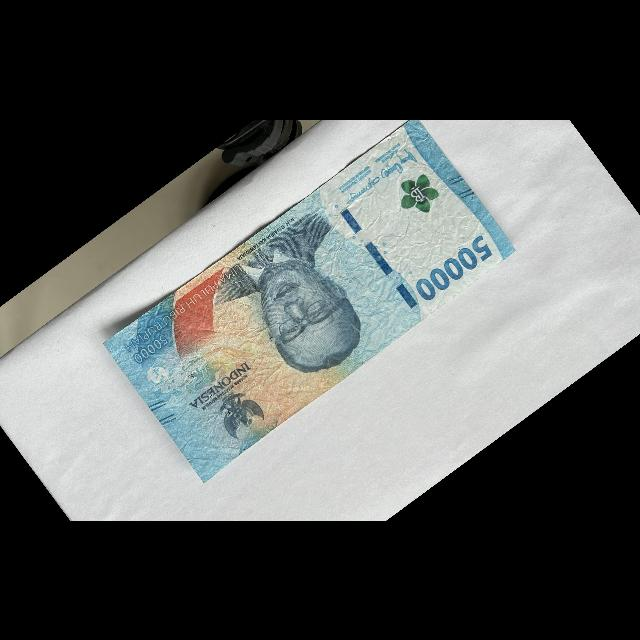Palsu-50k: (98, 109, 521, 486)
Tinta-Palsu-50k: (389, 166, 446, 223)
